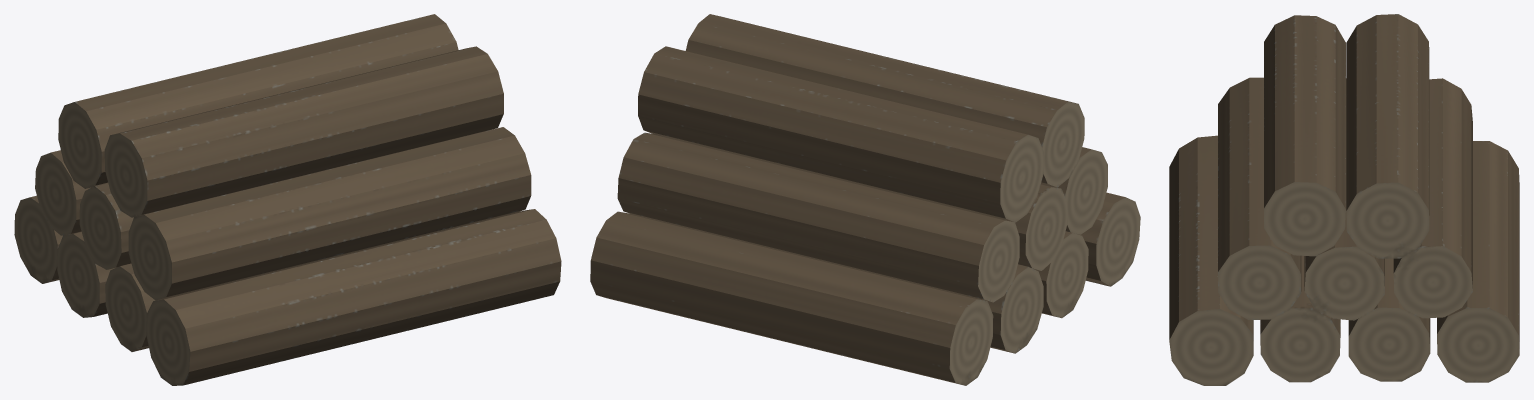
Rendered from forest_log_stack_short.glb.
The picture shows the model from 3 angles, left to right: view 1: azimuth 30°, elevation 25°; view 2: azimuth 150°, elevation 25°; view 3: azimuth 270°, elevation 25°; orthographic projection. The views are drawn at different scales.
Parts seen in each view (by area): view 1: LogStackShort; view 2: LogStackShort; view 3: LogStackShort.
Part boxes in pixels (x1,y1,x2,y2): LogStackShort: (14,14,561,385); LogStackShort: (590,14,1140,385); LogStackShort: (1169,14,1519,385).
Size of what is drawn, in the model's own units: 1.5 by 0.8071 by 1.28.
1 material, 1 textured.
